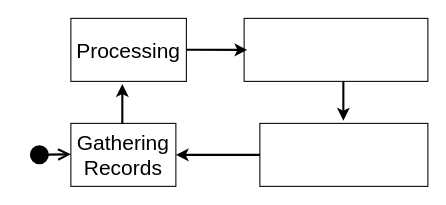
Image size: 446x205. Some labels were removed from this diagram. Each missing label, with the box of its shape:
Sending Records to Data Lake: (259, 122, 428, 186)
Update Consumer Metadata: (243, 17, 428, 81)
